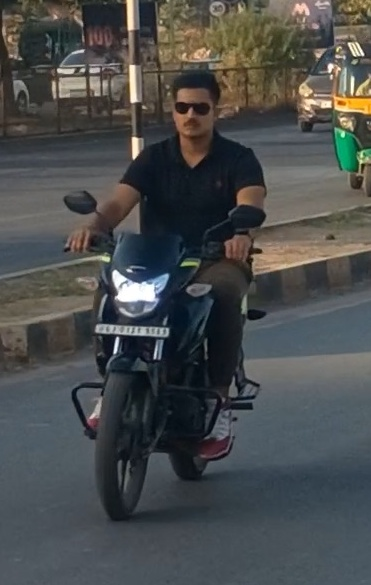BikeWithRider: (53, 64, 276, 526)
NoHelmet: (160, 65, 230, 146)
